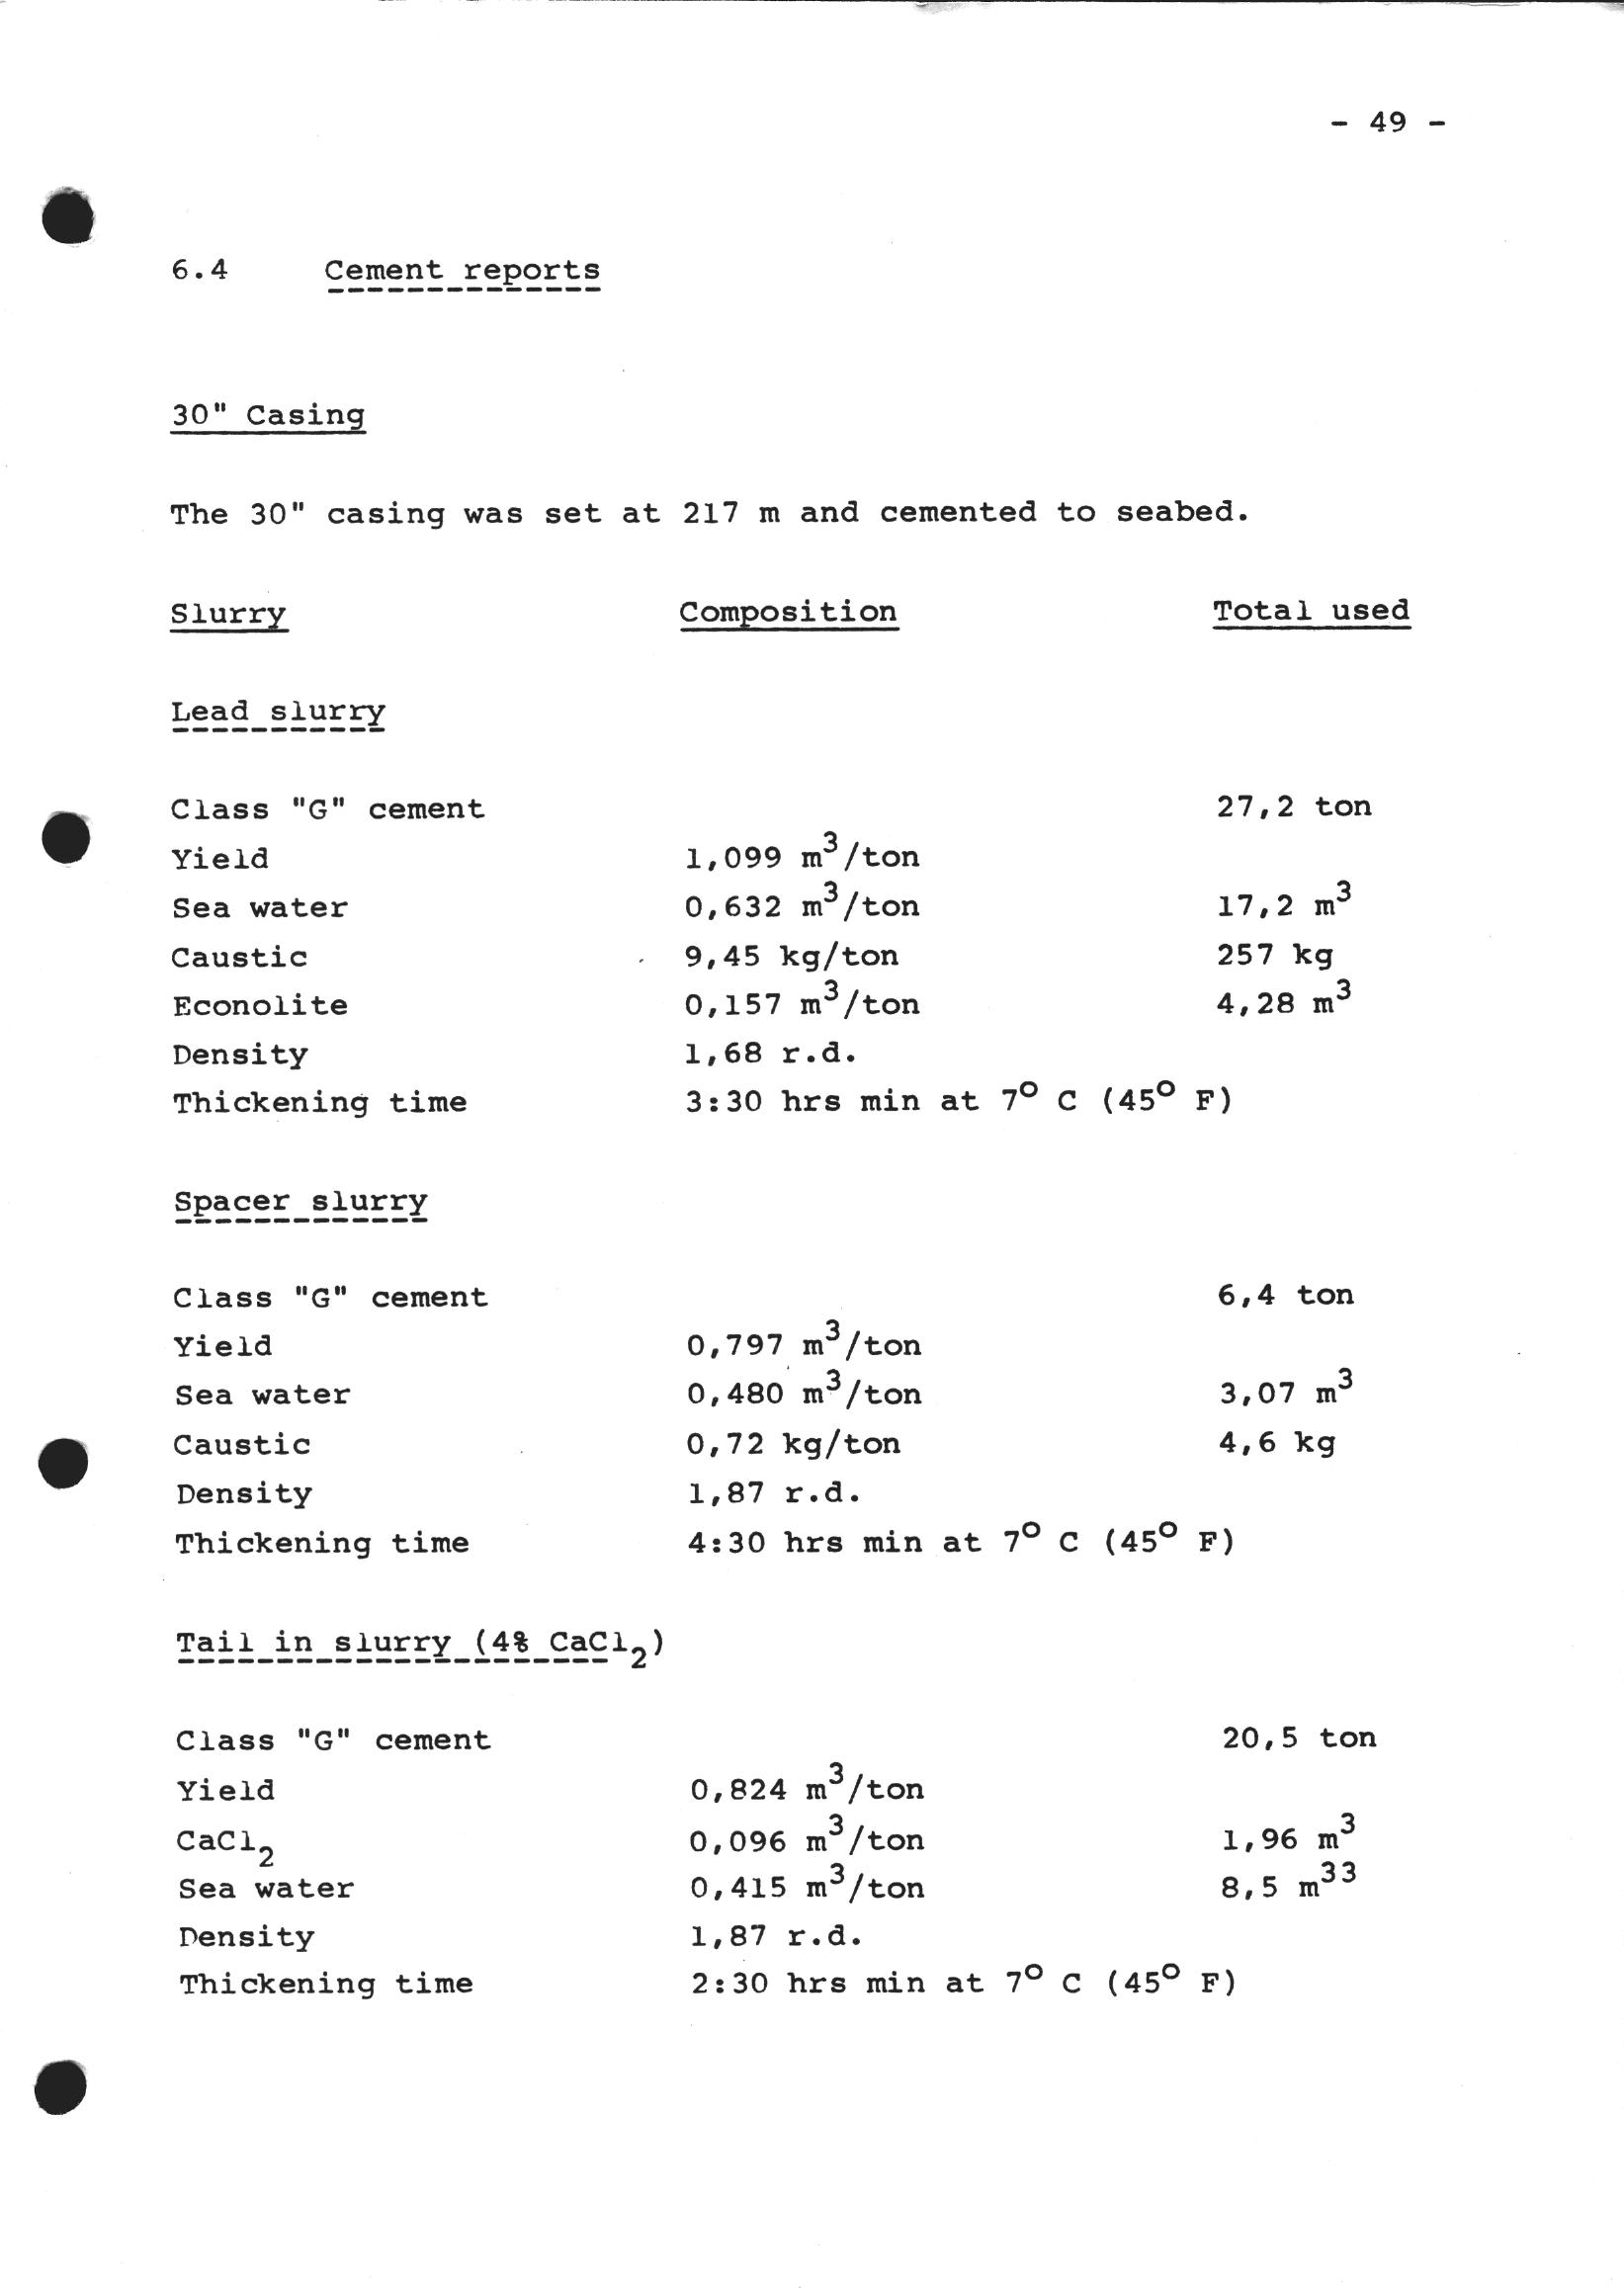table: (114, 578, 1464, 2075)
text: (162, 227, 1359, 548)
